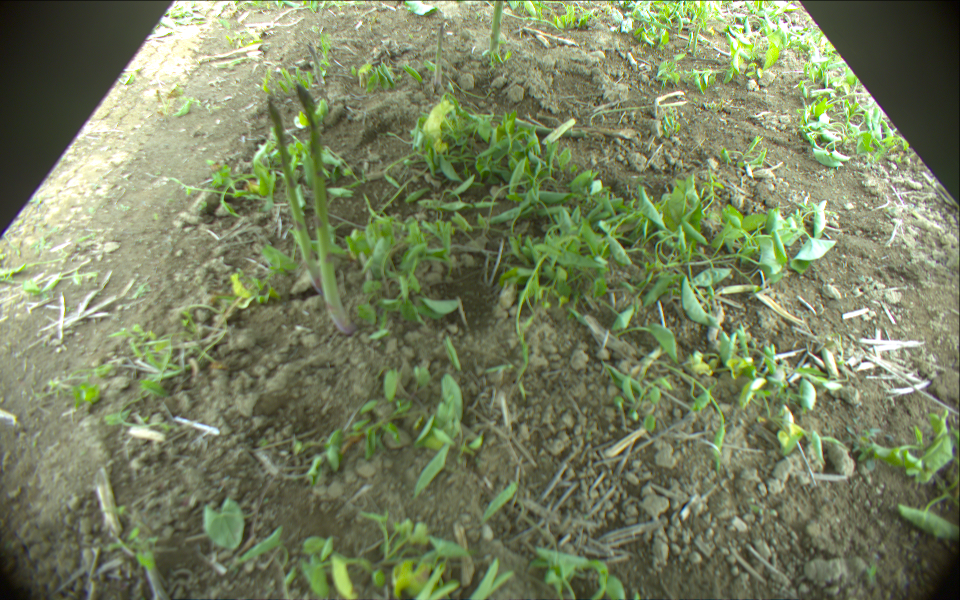aspa: (294, 85, 357, 337), (267, 100, 324, 298), (432, 22, 446, 93), (305, 40, 326, 87), (490, 1, 504, 57)
